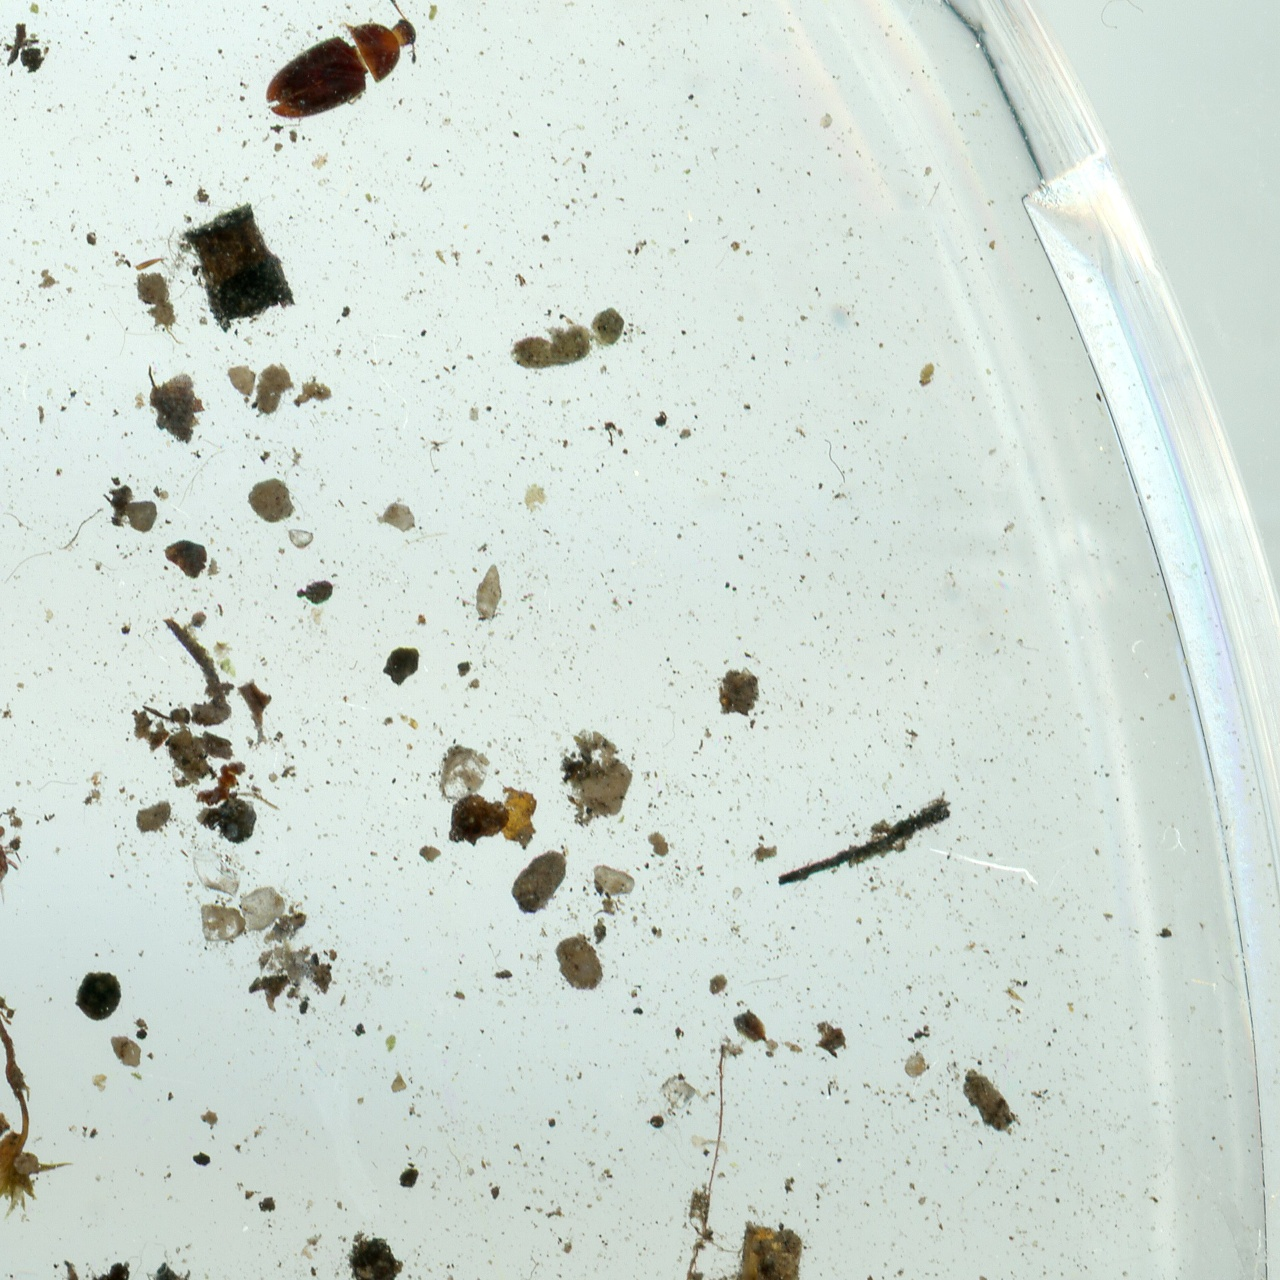arthropod: (239, 0, 437, 144), (265, 0, 418, 118), (0, 810, 23, 907), (0, 810, 21, 905)
